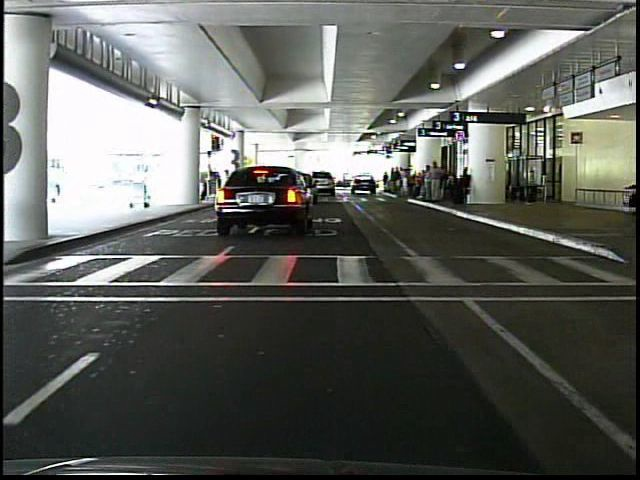person: (425, 156, 447, 209)
